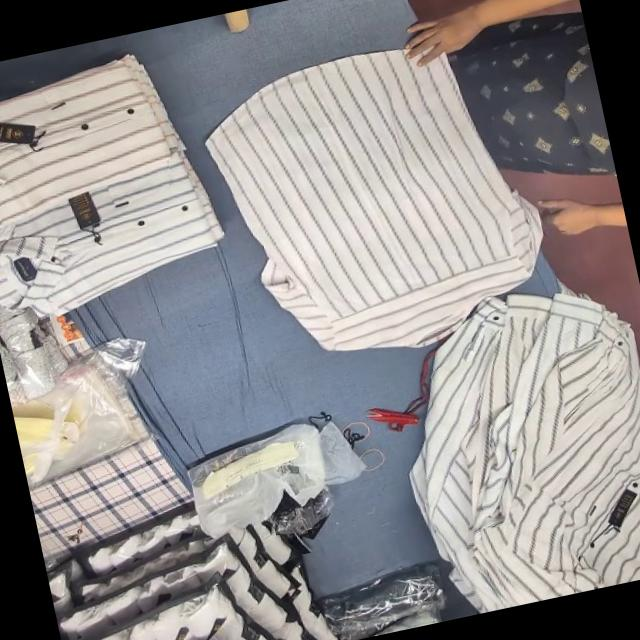new-garment: (206, 50, 541, 350)
